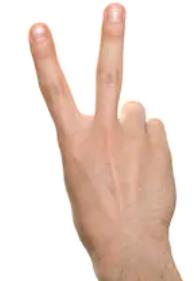front: (24, 2, 179, 251)
